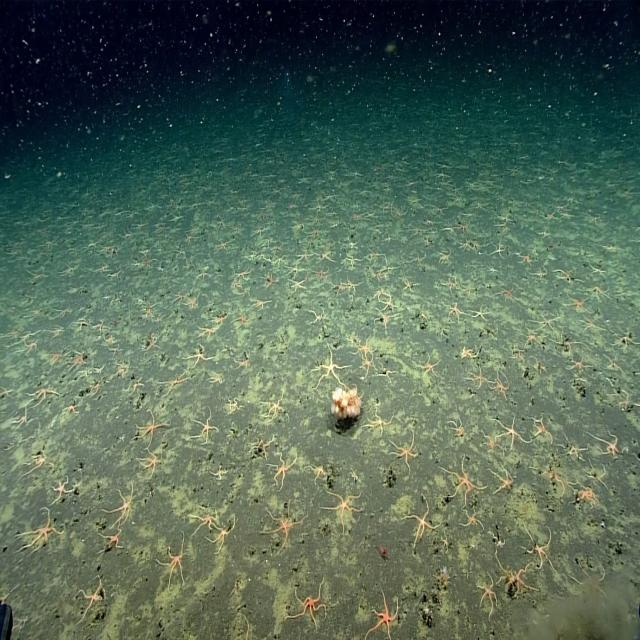brittle-stars: (21, 510, 62, 552), (499, 556, 536, 598), (446, 459, 480, 504), (292, 582, 326, 626), (266, 506, 300, 550), (522, 528, 555, 572), (370, 591, 400, 638), (324, 490, 363, 526), (158, 541, 188, 586), (572, 564, 609, 600), (407, 504, 436, 544), (317, 346, 346, 385), (268, 452, 298, 488), (78, 579, 105, 617), (535, 460, 568, 491), (136, 412, 165, 446), (496, 415, 525, 448), (109, 486, 136, 520), (391, 434, 417, 468), (592, 430, 622, 459), (209, 522, 235, 555), (490, 467, 516, 497), (194, 411, 218, 443), (192, 506, 220, 533), (161, 369, 189, 396), (29, 381, 59, 406), (480, 574, 499, 612), (264, 391, 288, 421), (562, 435, 586, 465), (98, 528, 124, 555), (582, 462, 608, 489), (51, 475, 75, 504), (246, 436, 274, 460), (139, 450, 162, 478), (27, 448, 50, 476), (366, 410, 390, 436), (577, 481, 598, 509), (9, 328, 39, 347), (534, 311, 558, 334), (186, 346, 211, 368), (554, 335, 581, 355), (614, 327, 636, 351), (419, 352, 439, 377), (469, 367, 489, 392), (533, 418, 552, 444), (564, 292, 588, 312), (493, 372, 510, 400), (615, 392, 640, 411), (523, 328, 543, 351), (555, 268, 578, 288), (307, 463, 327, 486), (483, 433, 502, 456), (304, 306, 328, 324), (582, 316, 603, 336), (68, 351, 88, 372), (45, 348, 66, 368), (463, 509, 482, 531), (375, 310, 397, 329), (19, 338, 41, 357), (489, 531, 507, 554), (460, 342, 480, 362), (354, 336, 372, 358), (472, 304, 491, 324), (568, 355, 588, 374), (590, 283, 610, 301), (198, 322, 217, 340), (142, 334, 159, 354), (234, 310, 251, 330), (63, 400, 80, 420), (232, 353, 250, 371), (173, 628, 200, 640), (448, 302, 464, 322), (228, 394, 244, 414), (141, 302, 157, 322), (112, 362, 128, 382), (377, 365, 397, 381), (25, 268, 47, 282), (288, 277, 306, 294), (499, 284, 516, 302), (603, 355, 622, 371), (250, 297, 270, 312), (127, 380, 144, 397), (345, 278, 361, 296), (359, 356, 375, 374), (344, 252, 362, 268), (518, 249, 534, 267), (55, 304, 73, 320), (403, 276, 418, 295), (23, 306, 42, 321), (234, 268, 251, 284), (410, 250, 427, 266), (535, 267, 551, 284), (444, 275, 459, 293), (382, 296, 397, 314), (450, 418, 465, 436), (13, 414, 32, 428), (240, 614, 250, 640), (264, 272, 280, 288), (94, 318, 110, 334), (74, 318, 90, 334), (492, 241, 506, 259), (334, 279, 348, 297), (47, 325, 65, 339), (442, 532, 453, 554), (184, 294, 199, 310), (298, 248, 313, 264), (314, 266, 329, 282), (273, 252, 288, 268), (318, 249, 334, 264), (286, 264, 302, 279), (85, 383, 100, 399), (61, 262, 77, 277), (510, 344, 523, 362), (250, 225, 269, 237), (214, 311, 228, 327), (462, 281, 476, 297), (373, 286, 387, 302), (366, 246, 380, 262), (532, 358, 546, 374), (140, 255, 157, 268), (0, 385, 15, 399), (207, 371, 222, 385), (217, 239, 230, 255), (439, 248, 452, 264), (105, 269, 122, 281), (0, 585, 9, 607), (213, 467, 227, 481), (173, 289, 186, 304), (94, 361, 106, 377), (307, 224, 320, 238), (348, 471, 362, 484), (457, 219, 469, 234), (106, 333, 117, 348), (184, 233, 200, 243), (444, 223, 456, 236), (216, 217, 227, 229), (110, 344, 120, 357), (488, 265, 498, 278), (197, 269, 208, 280), (232, 280, 243, 290)
